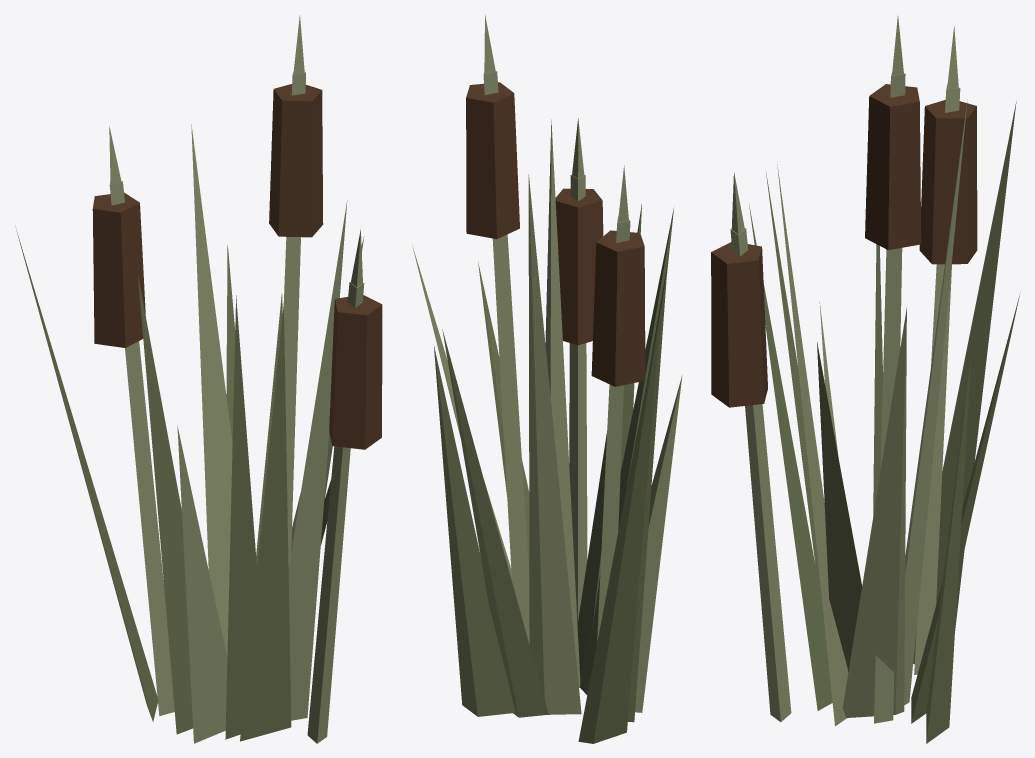
File: Reeds.fbx
3 renders of one model, left to right at view 1: azimuth 30°, elevation 25°; view 2: azimuth 150°, elevation 25°; view 3: azimuth 270°, elevation 25°, orthographic. The views are drawn at different scales.
Visible parts, largest first — view 1: Reeds2, Reeds, Cattails; view 2: Reeds2, Reeds, Cattails; view 3: Reeds2, Reeds, Cattails.
Part boxes in pixels (x1=…): Reeds2: x1=109, y1=15, x2=364, y2=743; Reeds: x1=15, y1=226, x2=331, y2=741; Cattails: x1=92, y1=84, x2=382, y2=449; Reeds2: x1=412, y1=15, x2=682, y2=714; Reeds: x1=434, y1=204, x2=673, y2=743; Cattails: x1=466, y1=82, x2=645, y2=386; Reeds2: x1=730, y1=16, x2=967, y2=726; Reeds: x1=749, y1=100, x2=1020, y2=743; Cattails: x1=711, y1=84, x2=977, y2=407.
Bounding box in the file's own units: 1.21 × 2.64 × 1.02.
